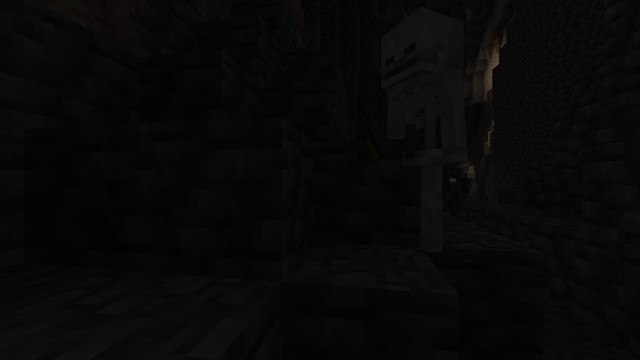squelettes: (384, 6, 467, 258)
